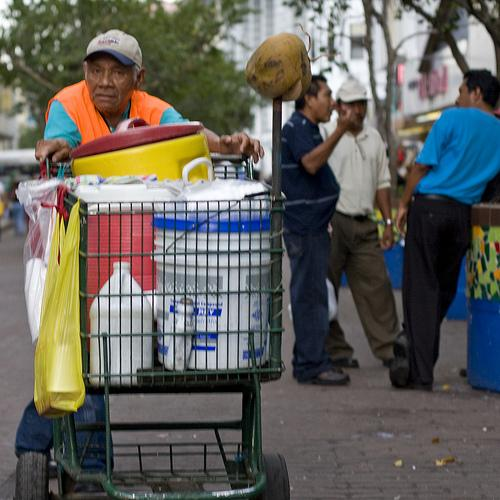person: (13, 30, 265, 500)
